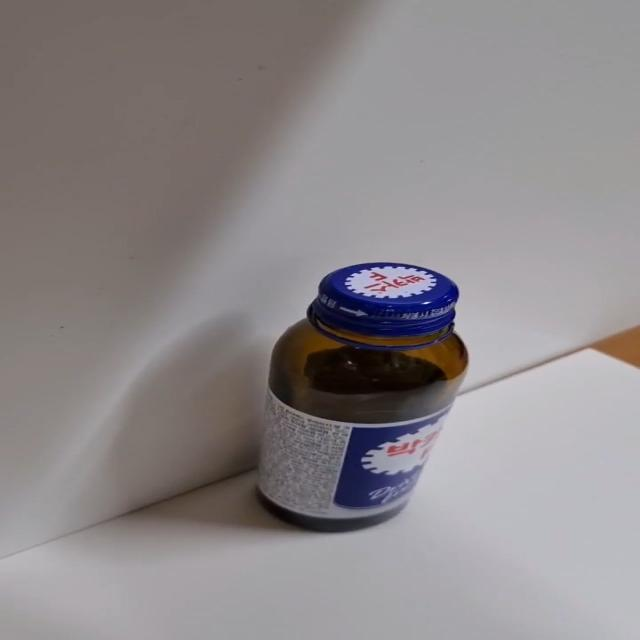Glass: (255, 262, 471, 535)
